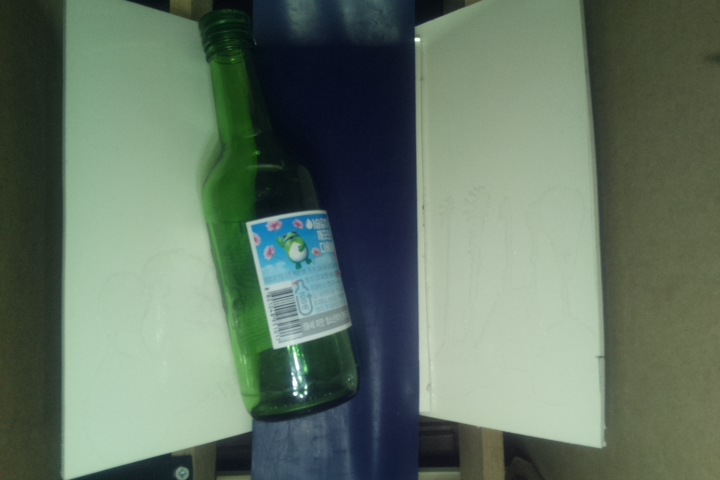soju: (194, 13, 359, 429)
